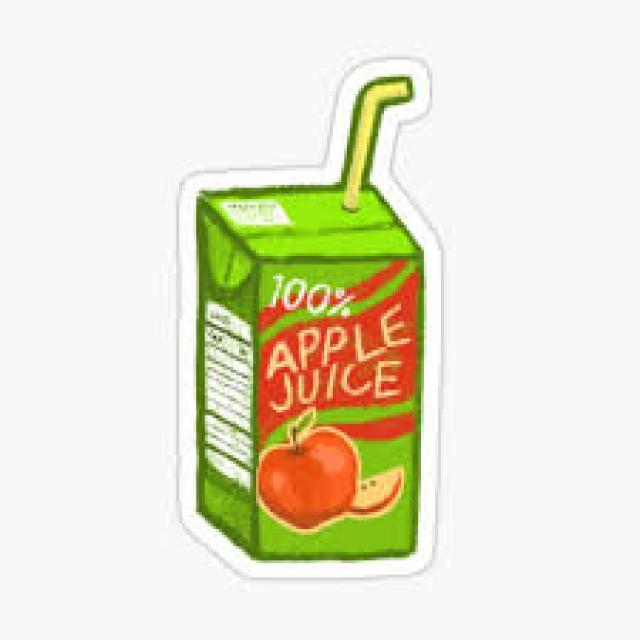non_white_jug: (155, 140, 448, 582)
